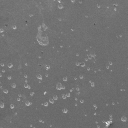corrosion: (35, 24, 51, 46), (103, 119, 114, 128), (55, 82, 65, 91), (24, 99, 32, 107), (61, 107, 69, 114), (120, 115, 128, 122), (10, 82, 18, 89), (57, 3, 64, 10), (6, 62, 13, 69), (44, 65, 52, 71), (35, 74, 43, 80), (2, 88, 9, 94), (11, 24, 18, 30), (9, 103, 15, 110), (43, 101, 49, 107), (62, 76, 68, 82), (23, 83, 29, 89), (52, 94, 58, 100), (80, 61, 85, 68), (79, 99, 85, 104), (78, 75, 84, 80), (29, 91, 35, 96), (90, 82, 95, 87), (108, 61, 113, 66), (7, 76, 12, 81), (1, 101, 5, 107), (1, 62, 5, 68), (16, 98, 21, 102)
